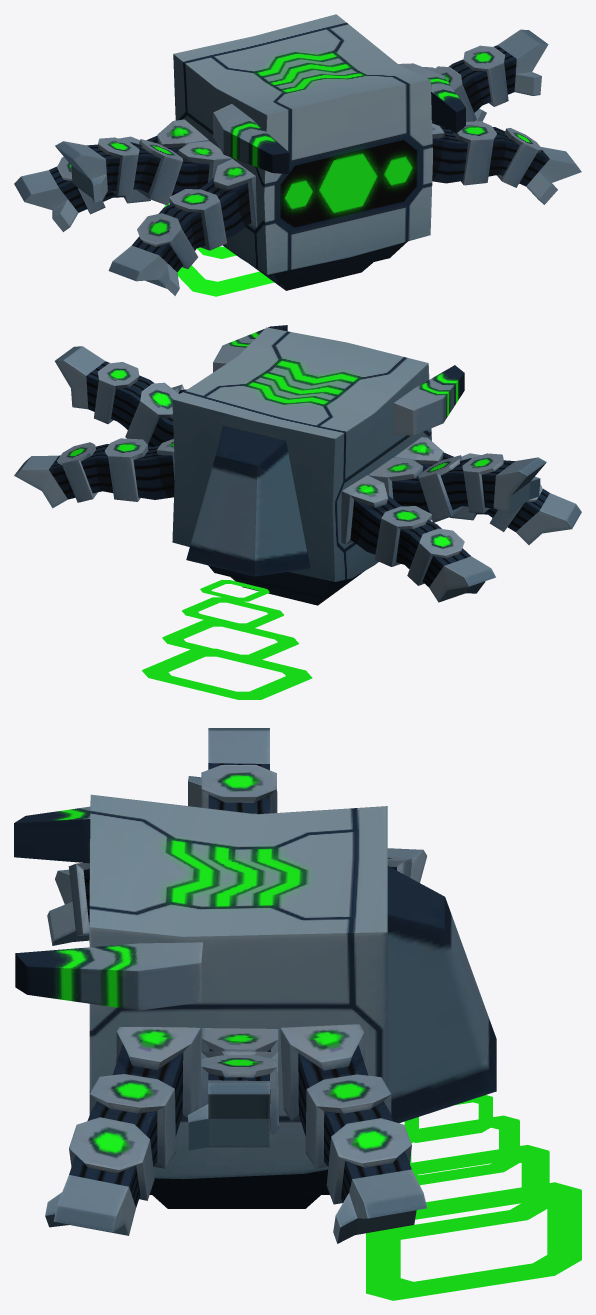
File: pets_279.fbx
3 renders of one model, top to bottom at view 1: azimuth 30°, elevation 25°; view 2: azimuth 150°, elevation 25°; view 3: azimuth 270°, elevation 25°, orthographic. The views are drawn at different scales.
Parts seen in each view (by area): view 1: Pets.279; view 2: Pets.279; view 3: Pets.279.
Part boxes in pixels (x1,y1,x2,y2): Pets.279: (14,14,581,296); Pets.279: (14,325,581,699); Pets.279: (14,728,581,1300).
Bounding box in the file's own units: 1.06 × 0.697 × 0.5451.
